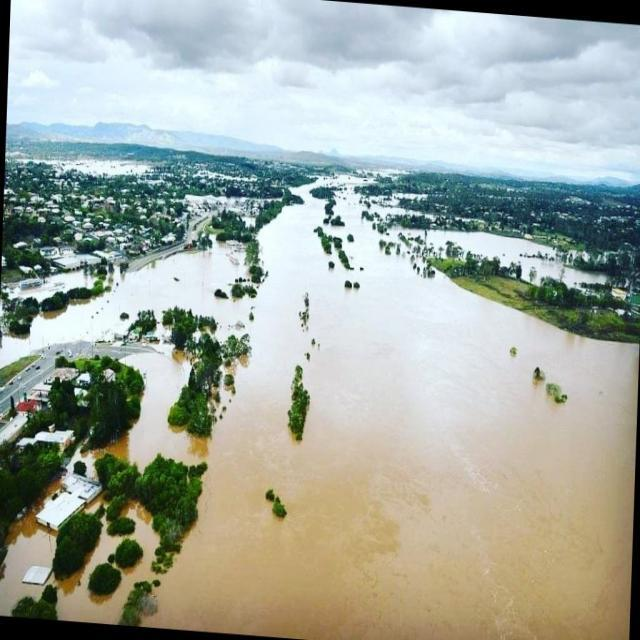flood: (153, 206, 640, 639)
